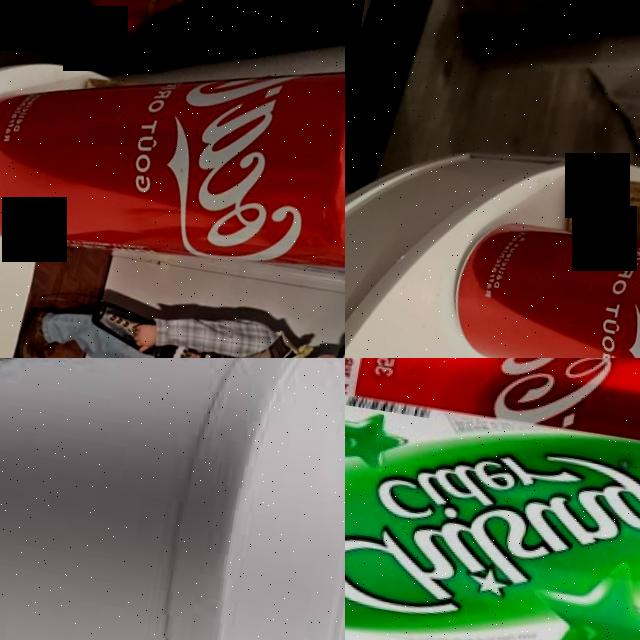can: (0, 9, 345, 303), (345, 386, 640, 640), (345, 358, 640, 477), (435, 207, 640, 358)
cup: (0, 358, 345, 640)
